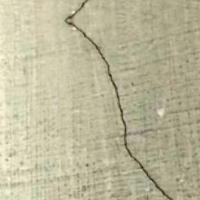crack: (57, 1, 185, 199)
